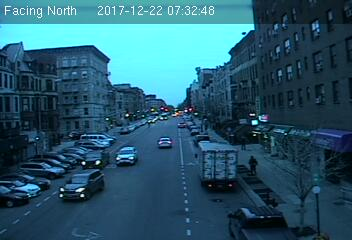car: (57, 168, 106, 201), (82, 149, 110, 168), (115, 146, 139, 167), (157, 138, 172, 147)
pedestrian: (248, 154, 258, 175)
truck: (196, 141, 237, 191)
